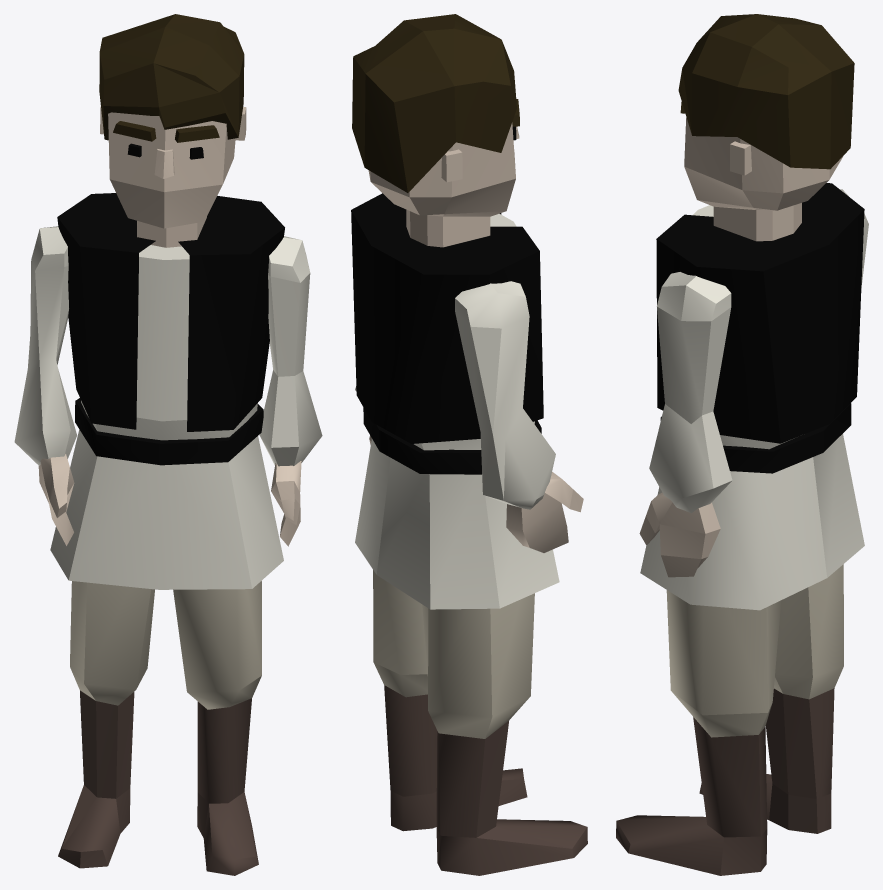
The model's file is erkek.fbx.
The picture shows the model from 3 angles, left to right: view 1: azimuth 30°, elevation 25°; view 2: azimuth 150°, elevation 25°; view 3: azimuth 270°, elevation 25°; orthographic projection. The views are drawn at different scales.
Parts seen in each view (by area): view 1: Model; view 2: Model; view 3: Model.
Part boxes in pixels (box(x1,y1,x2,y2)): Model: box(14, 14, 322, 875); Model: box(351, 14, 587, 875); Model: box(616, 14, 868, 875).
Size of the model in its own units: 21.45 by 69.27 by 19.19.
